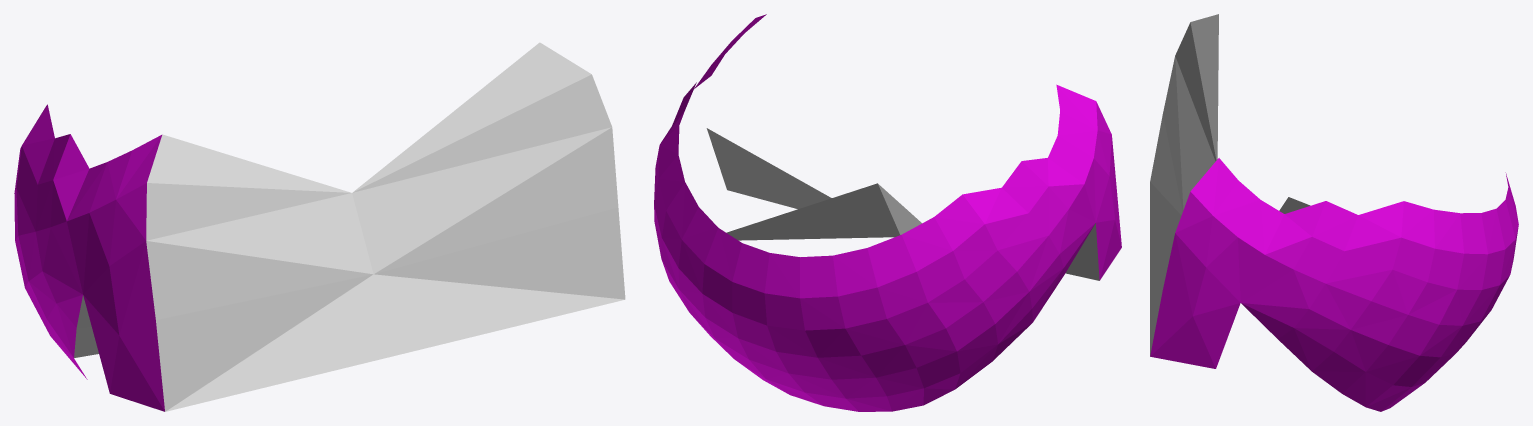
The picture shows the model from 3 angles, left to right: view 1: azimuth 30°, elevation 25°; view 2: azimuth 150°, elevation 25°; view 3: azimuth 270°, elevation 25°; orthographic projection. The views are drawn at different scales.
Parts seen in each view (by area): view 1: shape; view 2: shape; view 3: shape.
Boxes of the visible parts, box(x1,y1,x2,y2) form: shape: box(14, 42, 625, 411); shape: box(654, 14, 1121, 411); shape: box(1150, 14, 1518, 411).
Bounding box in the file's own units: 55.76 × 39.94 × 44.79.
